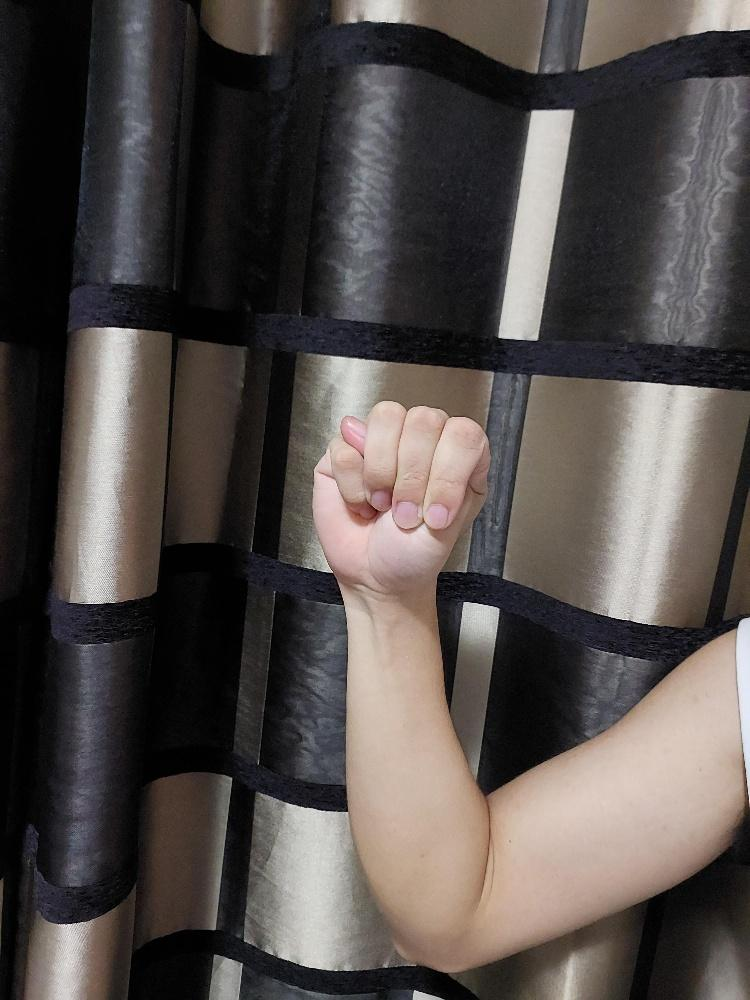m: (310, 397, 493, 599)
